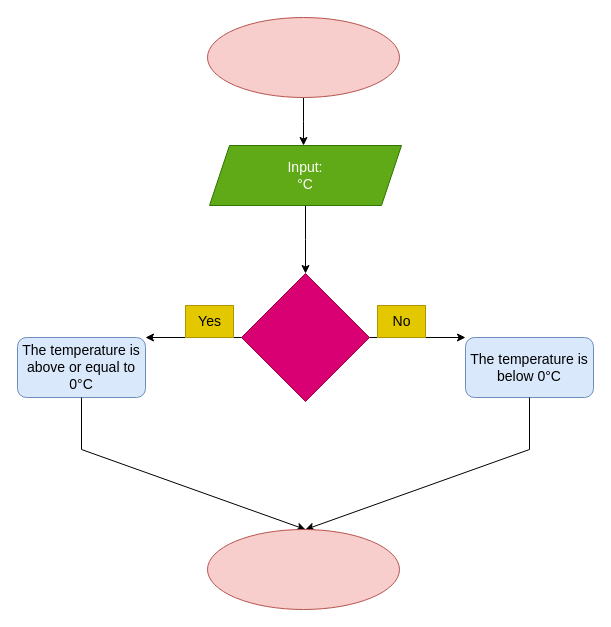
The diagram is 611 pixels wide and 627 high, and some of its shapes have lost their labels. The shapes that lost their labels are listed below. From the top down, each one's centre as x and y in pixels, then its label:
At pixel 303 57: "Start".
At pixel 305 337: "°C ≥ 0°C".
At pixel 303 569: "End".
